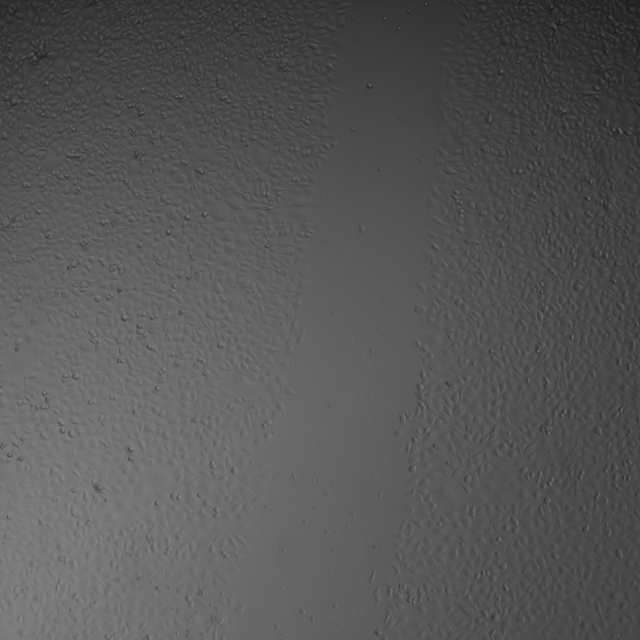wound: (216, 0, 456, 639)
